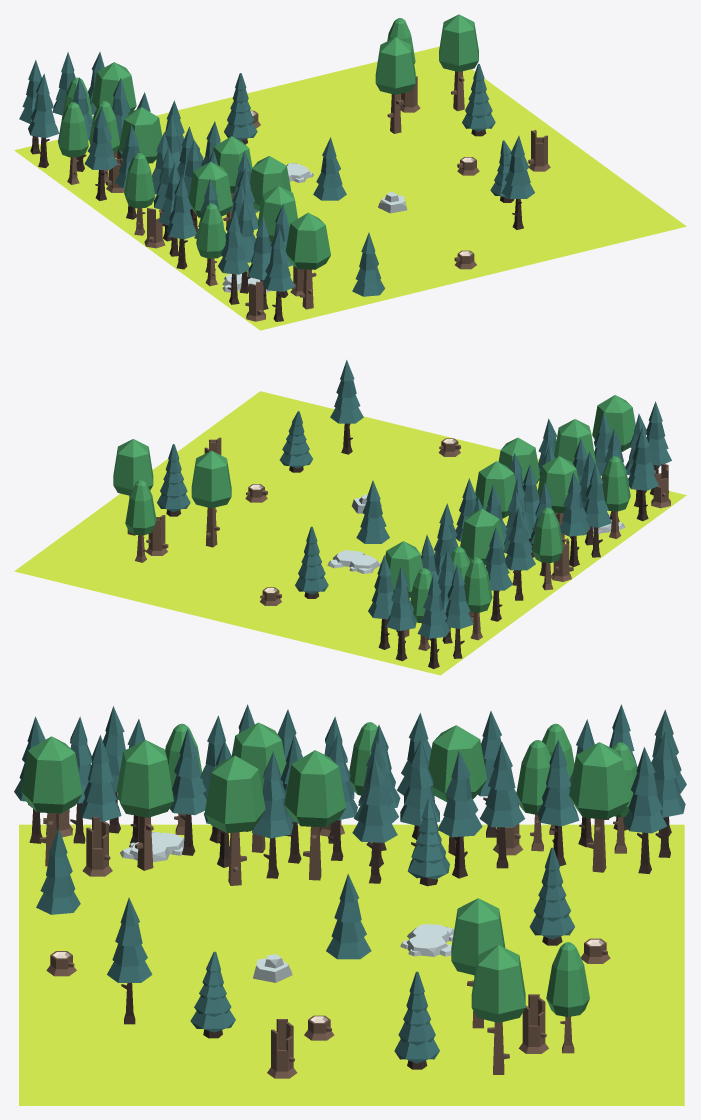
File: Tile_EndMap_Base.fbx
3 renders of one model, top to bottom at view 1: azimuth 30°, elevation 25°; view 2: azimuth 150°, elevation 25°; view 3: azimuth 270°, elevation 25°, orthographic. The views are drawn at different scales.
Visible parts, largest first — view 1: Plane.011; view 2: Plane.011; view 3: Plane.011.
Part boxes in pixels (<box>): Plane.011: <box>14,14,686,330</box>; Plane.011: <box>14,360,686,675</box>; Plane.011: <box>14,704,686,1105</box>.
Size of the model in its own units: 255 by 52.98 by 253.
